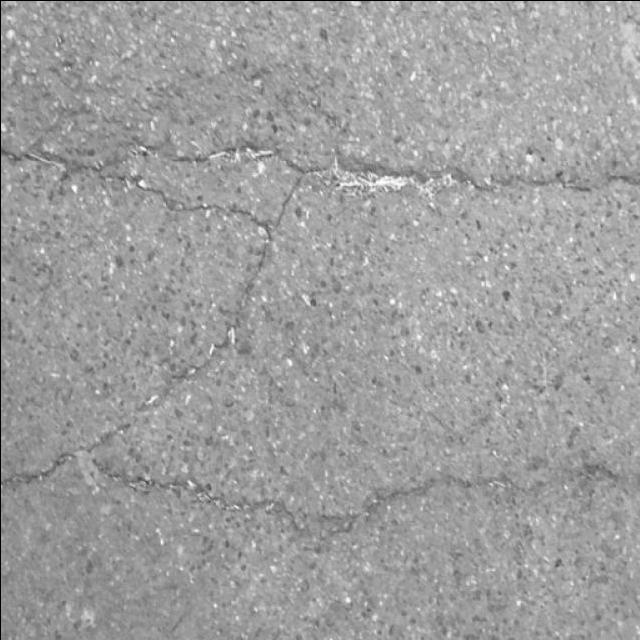SurfaceCrack: (0, 70, 638, 275)
